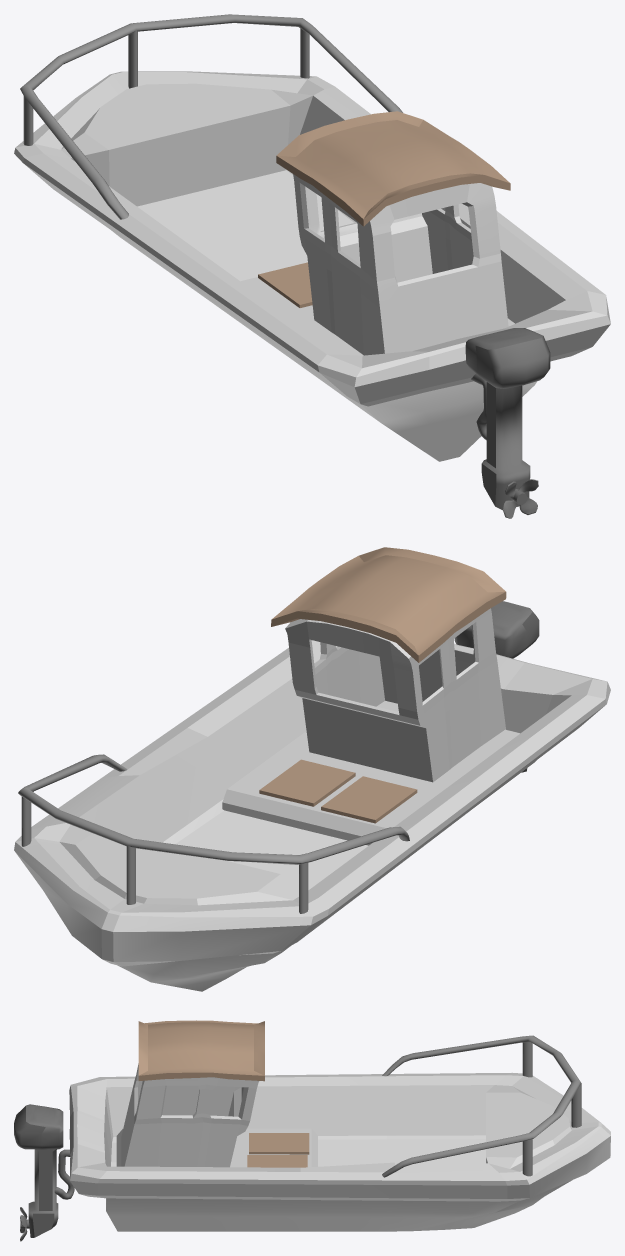
Rendered from Boat.fbx.
3 views of the same model, one above another, from view 1: azimuth 30°, elevation 25°; view 2: azimuth 150°, elevation 25°; view 3: azimuth 270°, elevation 25° (orthographic). The views are drawn at different scales.
Visible parts, largest first — view 1: Boat, Boat.005, Boat.006, Boat.002, Boat.004, Boat.003, Boat.009; view 2: Boat, Boat.005, Boat.004, Boat.002, Boat.006, Boat.003; view 3: Boat, Boat.005, Boat.006, Boat.002, Boat.004, Boat.003, Boat.007, Boat.001.
Boxes of the visible parts, bbox=[...] form: Boat: bbox=[14, 71, 610, 461]; Boat.005: bbox=[276, 111, 510, 355]; Boat.006: bbox=[465, 328, 550, 510]; Boat.002: bbox=[20, 14, 402, 219]; Boat.004: bbox=[258, 262, 312, 307]; Boat.003: bbox=[23, 28, 309, 145]; Boat.009: bbox=[502, 479, 538, 518]; Boat: bbox=[14, 640, 610, 991]; Boat.005: bbox=[271, 547, 506, 782]; Boat.004: bbox=[259, 759, 417, 823]; Boat.002: bbox=[18, 754, 409, 864]; Boat.006: bbox=[454, 601, 539, 658]; Boat.003: bbox=[21, 796, 308, 913]; Boat: bbox=[69, 1072, 610, 1231]; Boat.005: bbox=[121, 1020, 264, 1167]; Boat.006: bbox=[14, 1104, 63, 1237]; Boat.002: bbox=[382, 1035, 581, 1177]; Boat.004: bbox=[247, 1133, 309, 1167]; Boat.003: bbox=[522, 1042, 532, 1176]; Boat.007: bbox=[54, 1149, 74, 1199]; Boat.001: bbox=[571, 1083, 581, 1127].
Size of the model in its own units: 703 by 608 by 1630.
